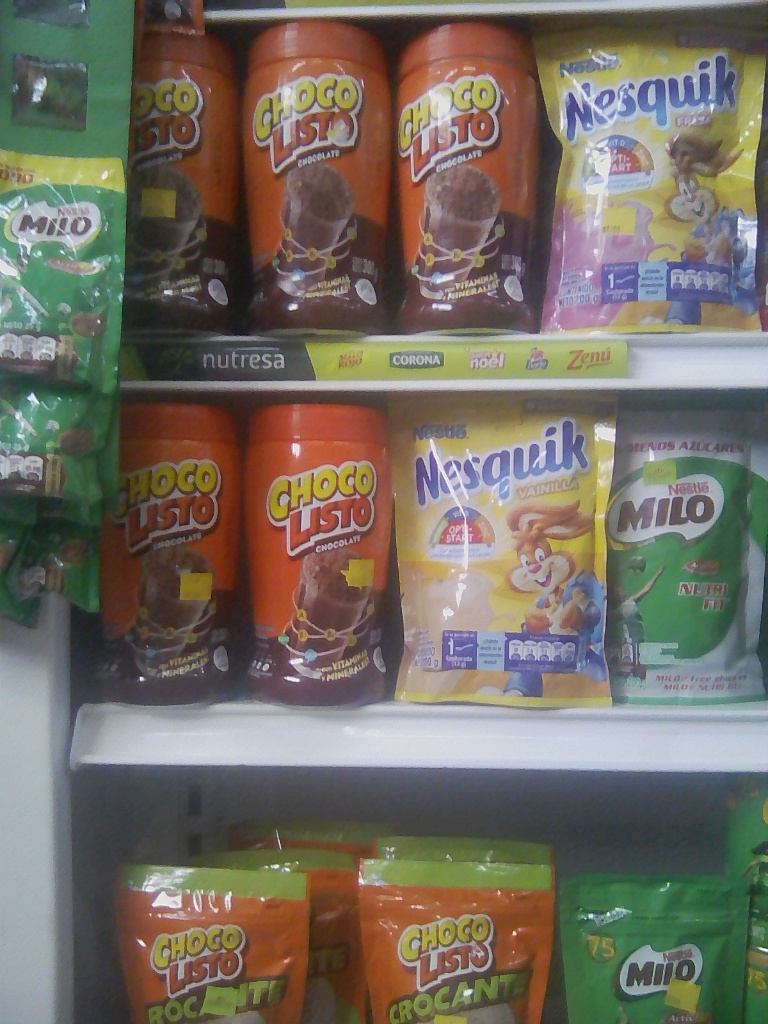COL0170103TRR30000: (392, 30, 552, 336)
COL0170205DYP20000: (613, 407, 762, 704)
COL0170305DYP20000: (548, 21, 762, 332)
COL0170306DYP20000: (382, 390, 614, 714)
